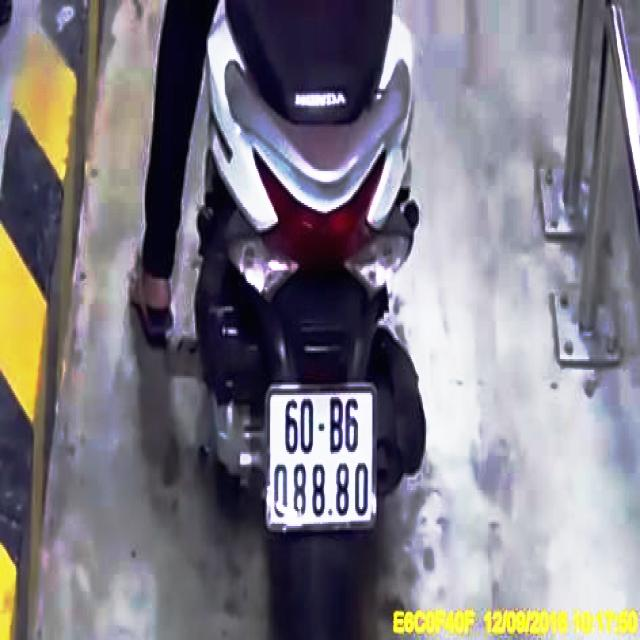license_plate: (270, 386, 379, 527)
